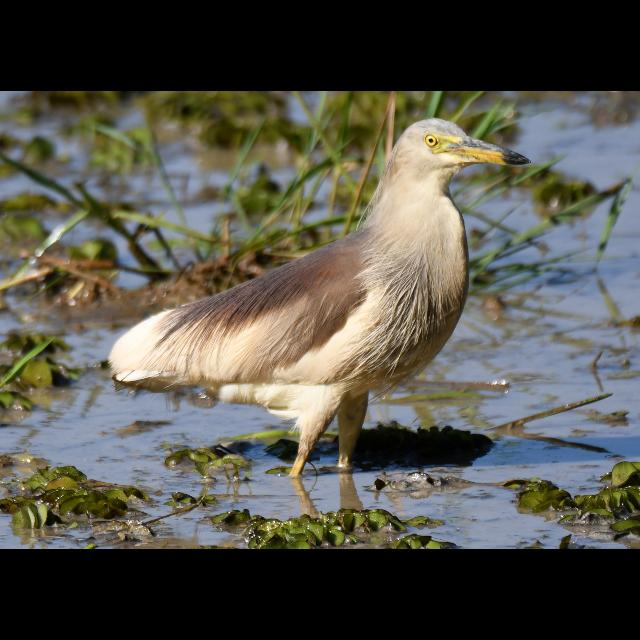heron: (103, 117, 547, 487)
